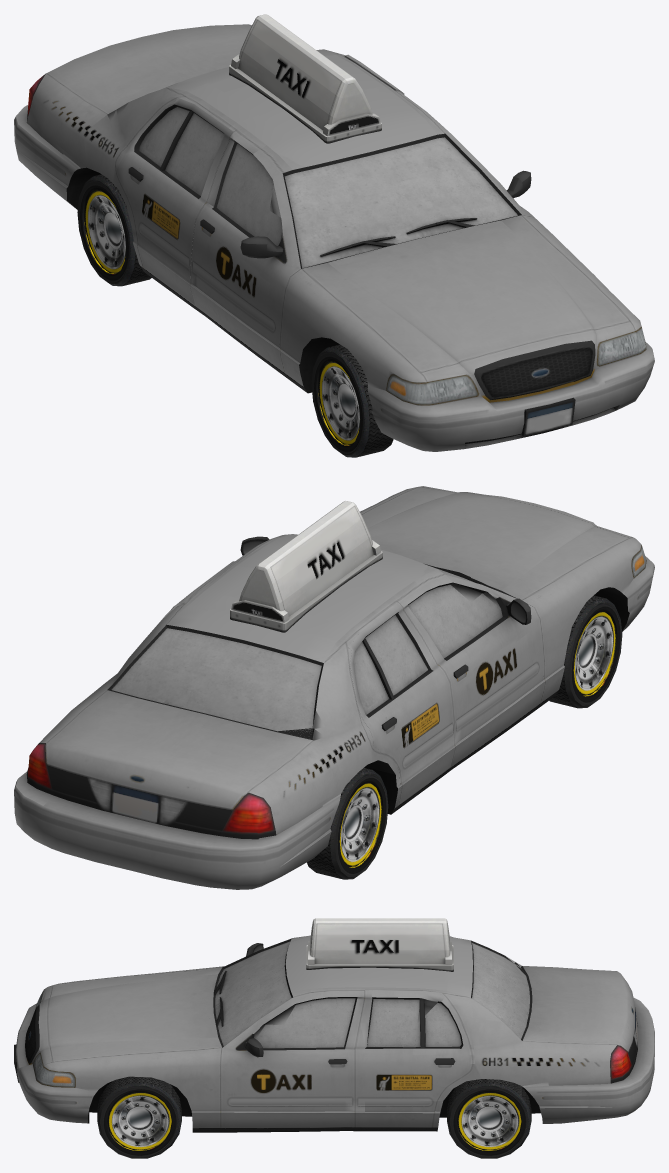
The model's file is Taxi_01_back door.fbx.
The picture shows the model from 3 angles, top to bottom: view 1: azimuth 30°, elevation 25°; view 2: azimuth 150°, elevation 25°; view 3: azimuth 270°, elevation 25°; orthographic projection. The views are drawn at different scales.
Parts seen in each view (by area): view 1: TaxiCar01, door002, top light, FL_Wheel_LOD029, FL_Wheel_LOD030, lights; view 2: TaxiCar01, door002, top light, FL_Wheel_LOD030, FL_Wheel_LOD029; view 3: TaxiCar01, door, top light, FL_Wheel_LOD032, FL_Wheel_LOD031, lights.
Boxes of the visible parts, x1,y1,x2,y2 form: TaxiCar01: (14, 24, 654, 451); door002: (117, 97, 233, 304); top light: (229, 14, 381, 143); FL_Wheel_LOD029: (311, 344, 393, 457); FL_Wheel_LOD030: (77, 174, 151, 286); lights: (385, 326, 646, 405); TaxiCar01: (14, 486, 654, 889); door002: (348, 603, 455, 805); top light: (230, 500, 382, 632); FL_Wheel_LOD030: (307, 768, 388, 879); FL_Wheel_LOD029: (549, 595, 622, 708); TaxiCar01: (14, 935, 654, 1132); door: (355, 989, 473, 1111); top light: (306, 918, 453, 971); FL_Wheel_LOD032: (97, 1076, 181, 1158); FL_Wheel_LOD031: (447, 1079, 531, 1158); lights: (33, 990, 76, 1087).
Bounding box in the file's own units: 89.94 × 76.69 × 231.
